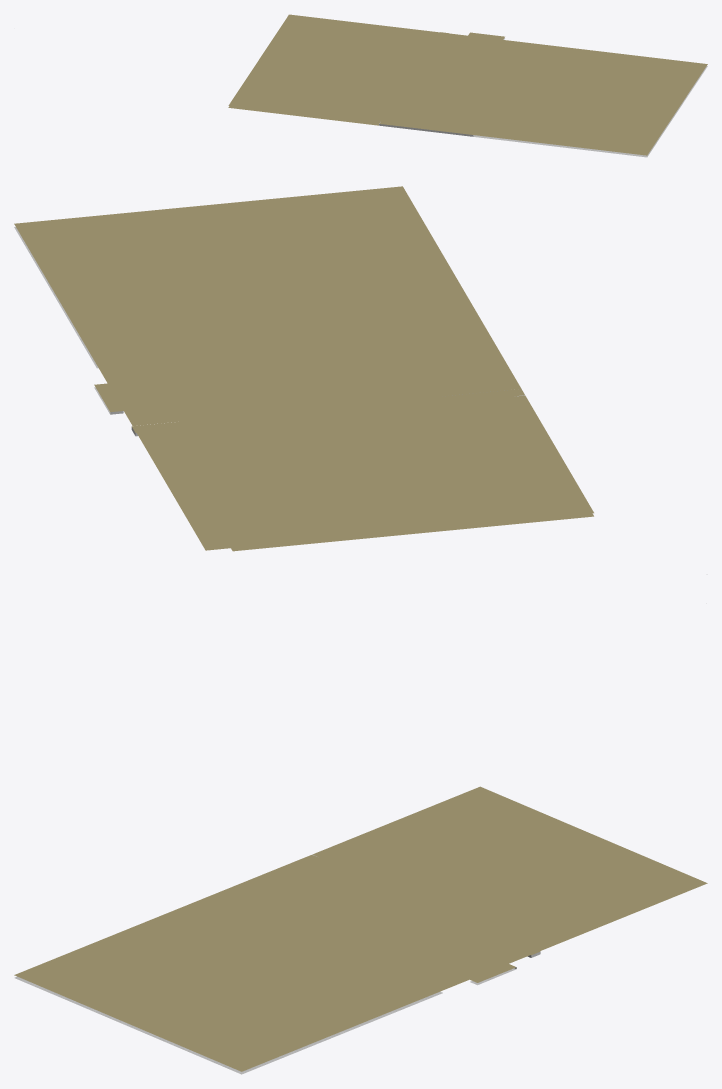
The model's file is podlaha_1_patro.gltf.
The picture shows the model from 3 angles, top to bottom: view 1: azimuth 30°, elevation 25°; view 2: azimuth 150°, elevation 25°; view 3: azimuth 270°, elevation 25°; orthographic projection. The views are drawn at different scales.
Parts seen in each view (by area): view 1: root; view 2: root; view 3: root.
Part boxes in pixels (bbox=[...]): root: bbox=[228, 14, 707, 157]; root: bbox=[14, 186, 707, 574]; root: bbox=[14, 603, 707, 1074].
Bounding box in the file's own units: 15.35 × 1.57 × 11.54.
3 materials, 1 textured.
